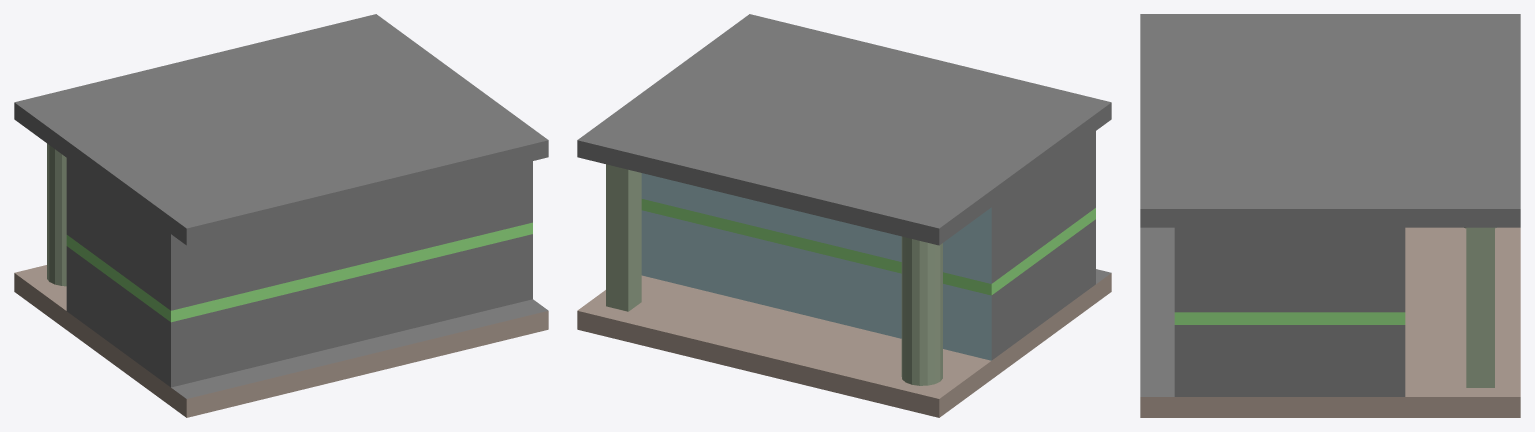
Rendered from shop b.fbx.
3 views of the same model, side by side, from view 1: azimuth 30°, elevation 25°; view 2: azimuth 150°, elevation 25°; view 3: azimuth 270°, elevation 25° (orthographic). The views are drawn at different scales.
Parts seen in each view (by area): view 1: shop B; view 2: shop B; view 3: shop B.
Part boxes in pixels (x1,y1,x2,y2): shop B: [14, 14, 548, 417]; shop B: [577, 14, 1111, 417]; shop B: [1140, 14, 1520, 417].
Bounding box in the file's own units: 400 × 200 × 330.
